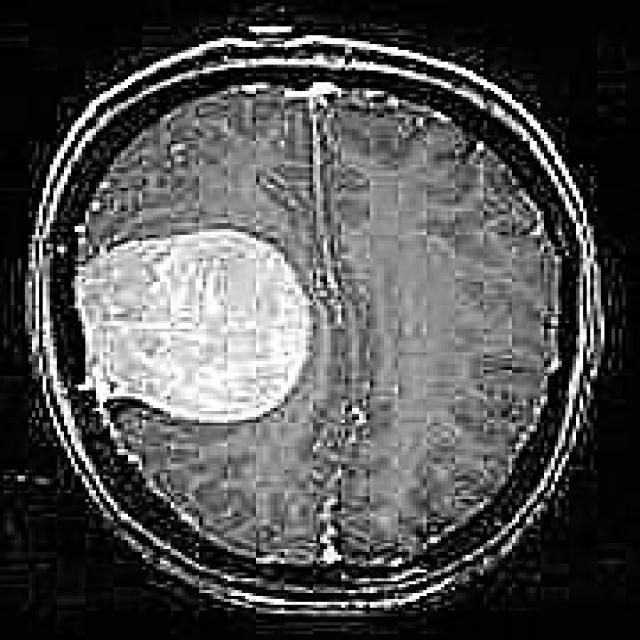Tumor-Cell: (89, 204, 294, 419)
